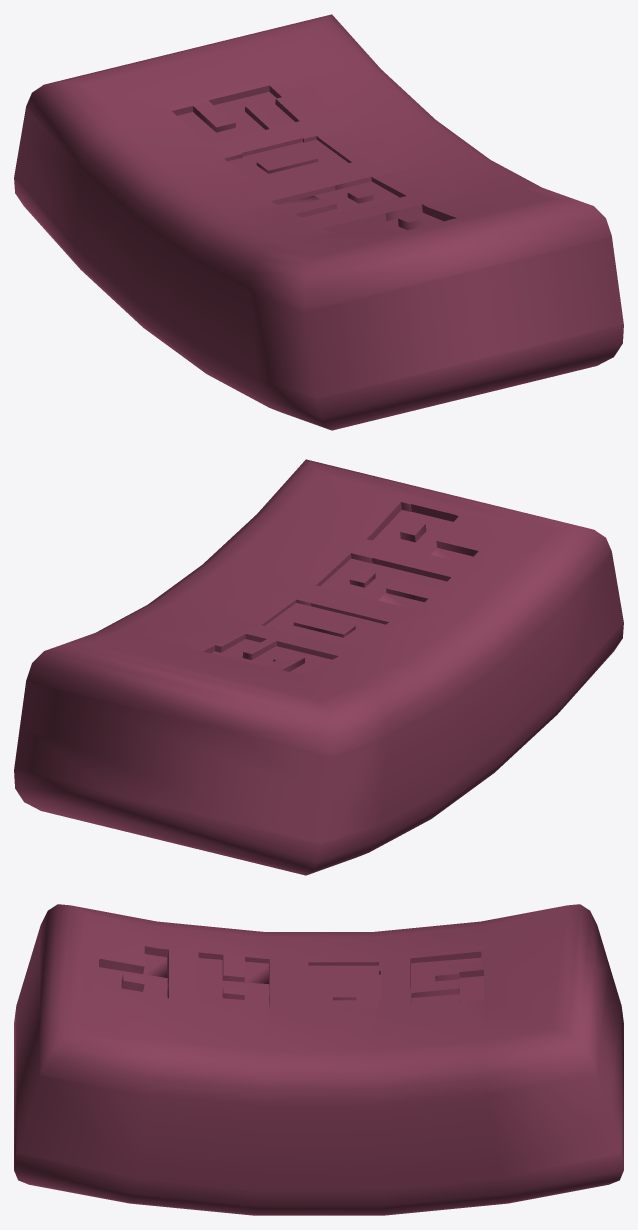
File: Soap.fbx
3 views of the same model, one above another, from view 1: azimuth 30°, elevation 25°; view 2: azimuth 150°, elevation 25°; view 3: azimuth 270°, elevation 25° (orthographic).
Visible parts, largest first — view 1: Box001; view 2: Box001; view 3: Box001.
Part boxes in pixels (<box>): Box001: <box>14,14,623,430</box>; Box001: <box>14,459,623,875</box>; Box001: <box>14,904,623,1215</box>.
Bounding box in the file's own units: 1 × 0.575 × 1.73.
